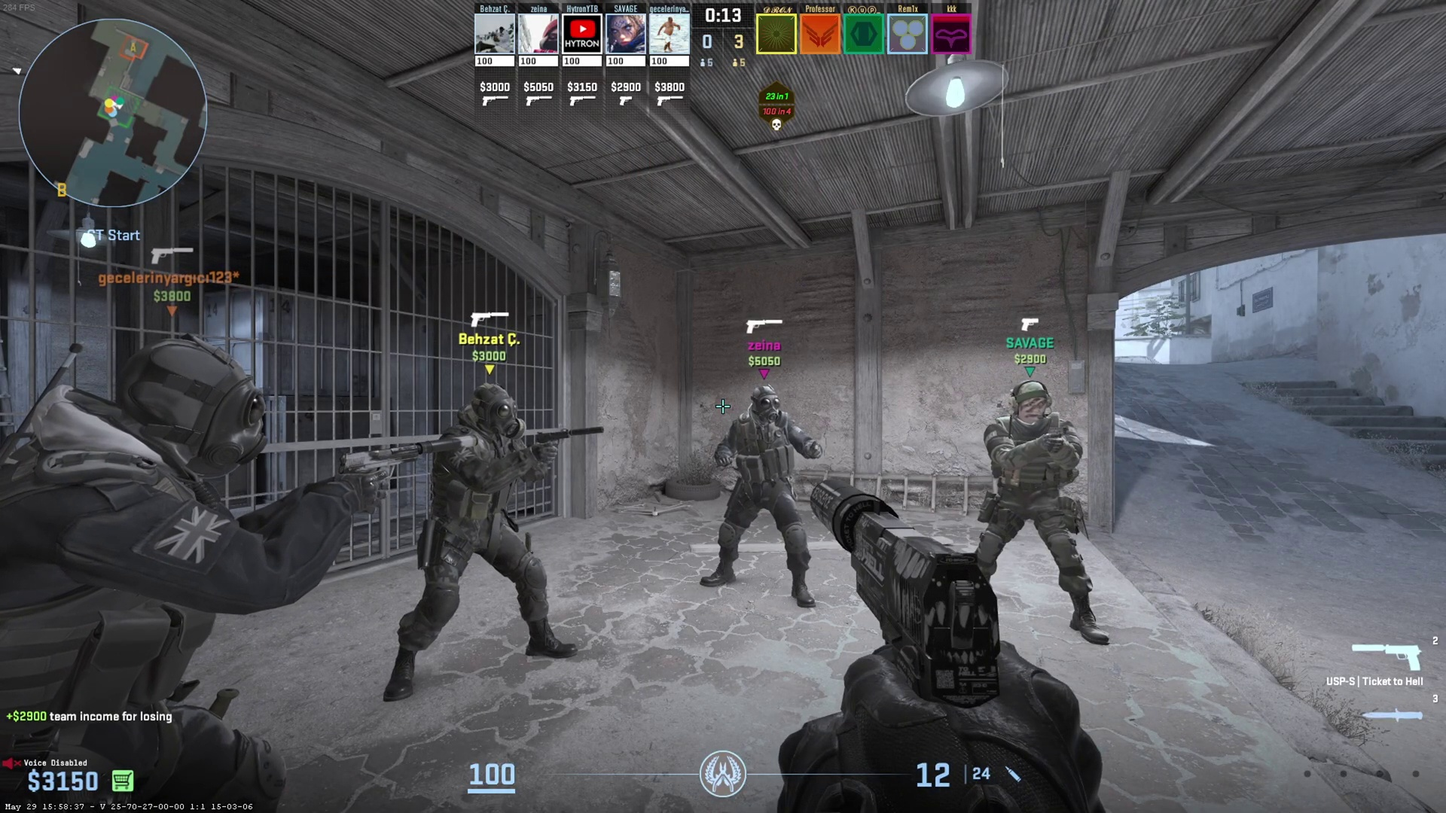CT: (23, 342, 286, 787), (413, 393, 562, 681), (986, 383, 1098, 645), (714, 389, 810, 608)
